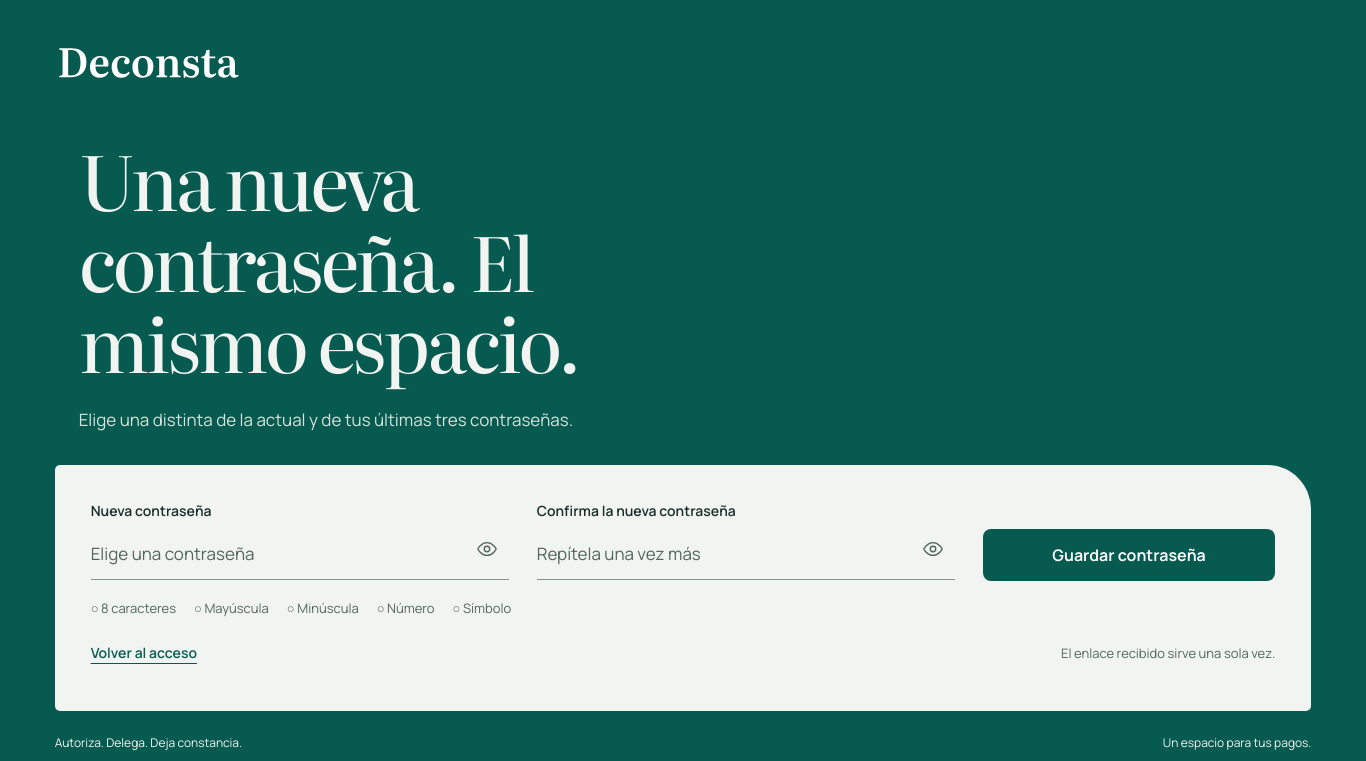
Test: restablecer la contraseña › muestra en línea el rechazo de las últimas 3 contraseñas y conserva el formulario
In the password field named "nueva": (300, 554) [91,528,509,580], type "Nueva-clave-segura-7!"
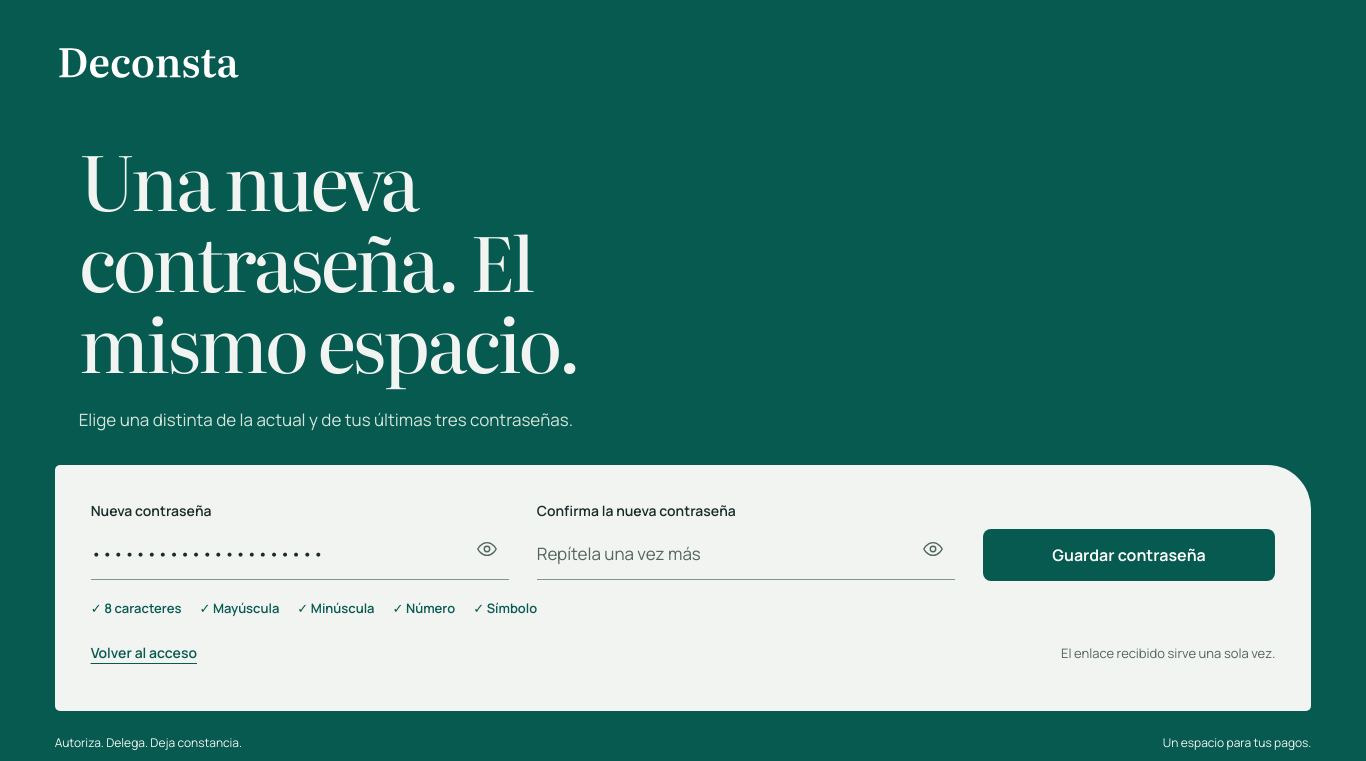
In the password field labelled "Confirma la nueva contraseña": (746, 554) [537,528,955,580], type "Nueva-clave-segura-7!"
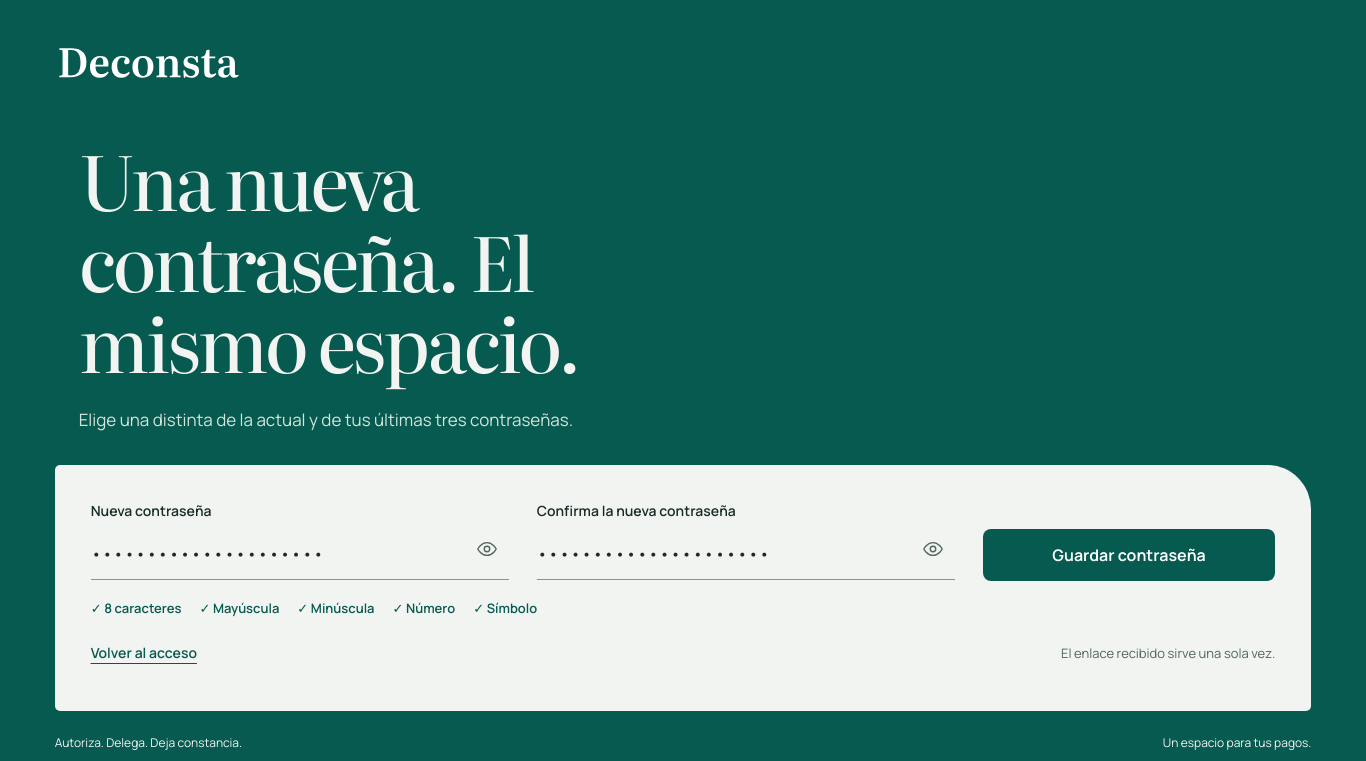
Submit the form, box [91,501,1275,581]
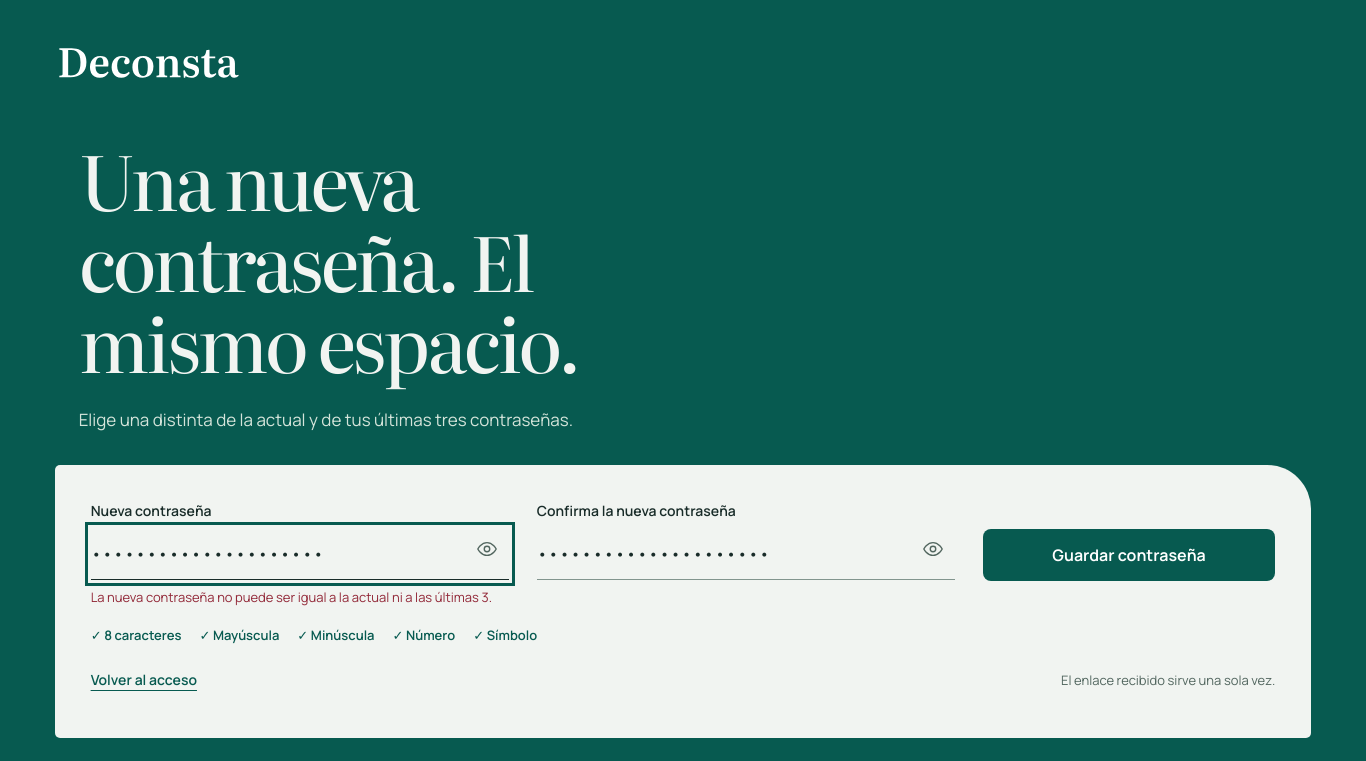
Now the message with class "error" reads "La nueva contraseña no puede ser igual a la actual ni a las últimas 3.", box [91,588,492,606]
